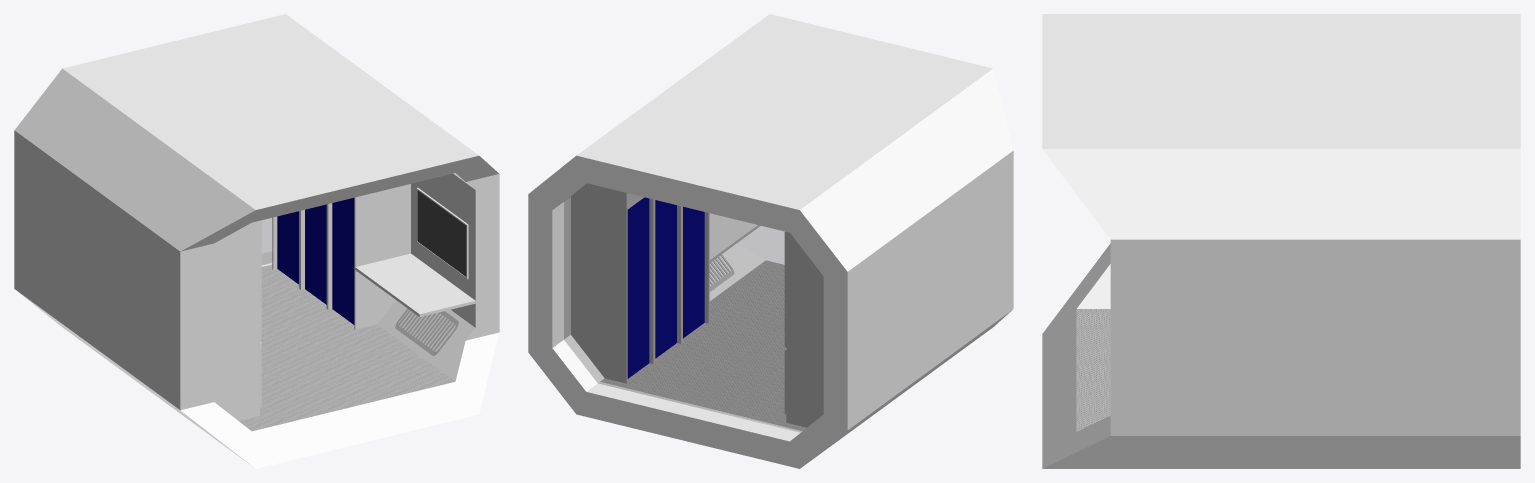
The model's file is ARKHA_L2_SystemsBay_V1.glb.
3 views of the same model, side by side, from view 1: azimuth 30°, elevation 25°; view 2: azimuth 150°, elevation 25°; view 3: azimuth 270°, elevation 25° (orthographic). The views are drawn at different scales.
Visible parts, largest first — view 1: 1455089, 1025465, 1447538, 1025875, 794841, 1447539, 1455361, 1452495, 1455362, 1447544; view 2: 1455089, 1025815, 1447547, 1025465, 1455362, 1455361, 1447539, 1025875, 1447544, 1447538; view 3: 1455089.
Part boxes in pixels (x1,y1,x2,y2): 1455089: [14, 14, 499, 468]; 1025465: [204, 220, 261, 420]; 1447538: [327, 184, 410, 329]; 1025875: [355, 253, 475, 316]; 794841: [416, 187, 468, 279]; 1447539: [332, 198, 354, 324]; 1455361: [305, 204, 326, 304]; 1452495: [395, 308, 458, 355]; 1455362: [277, 211, 298, 284]; 1447544: [300, 204, 327, 309]; 1455089: [528, 14, 1013, 468]; 1025815: [564, 183, 823, 431]; 1447547: [571, 183, 654, 383]; 1025465: [784, 231, 823, 427]; 1455362: [627, 197, 649, 378]; 1455361: [655, 200, 676, 358]; 1447539: [683, 206, 704, 338]; 1025875: [709, 213, 760, 262]; 1447544: [654, 199, 681, 362]; 1447538: [682, 206, 709, 342]; 1455089: [1042, 14, 1520, 468].
Bounding box in the file's own units: 4 × 3.1 × 4.2.
Materials: 619 (1 with a texture image).
